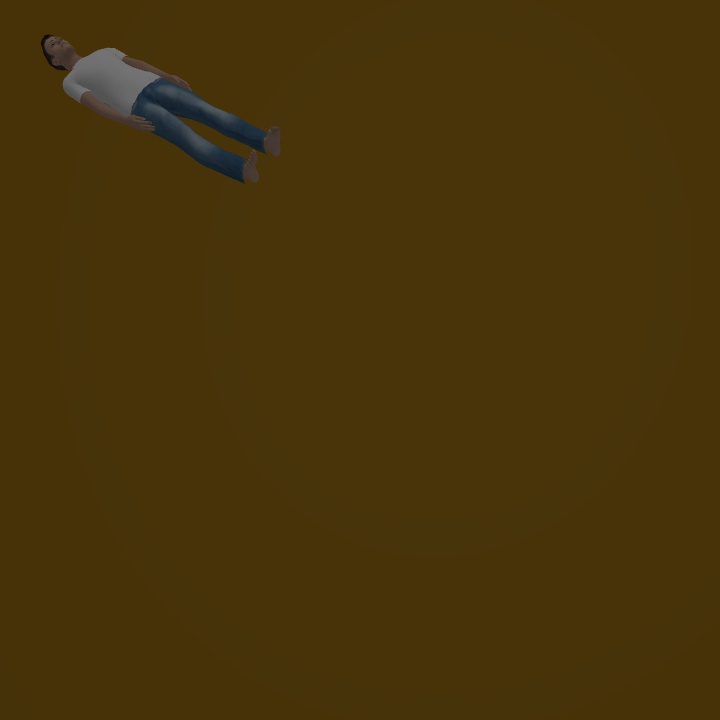victim: (42, 31, 284, 184)
